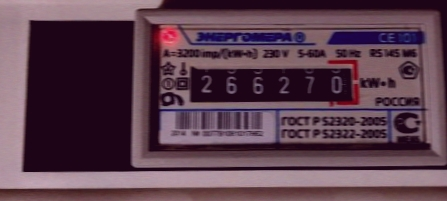0: (329, 72, 342, 92)
2: (198, 71, 213, 92), (276, 72, 290, 92)
6: (224, 72, 237, 93), (251, 73, 264, 93)
7: (302, 72, 314, 91)
screen: (180, 53, 365, 108)
